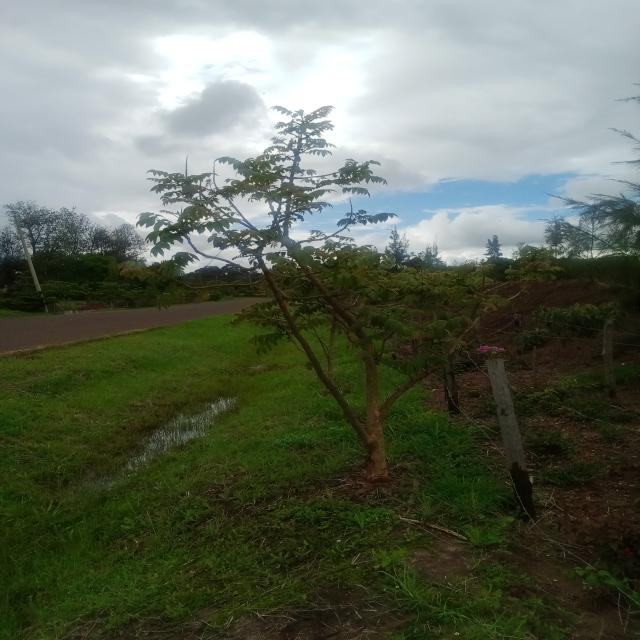Polyscias Kikuyensis: (125, 103, 629, 473)
